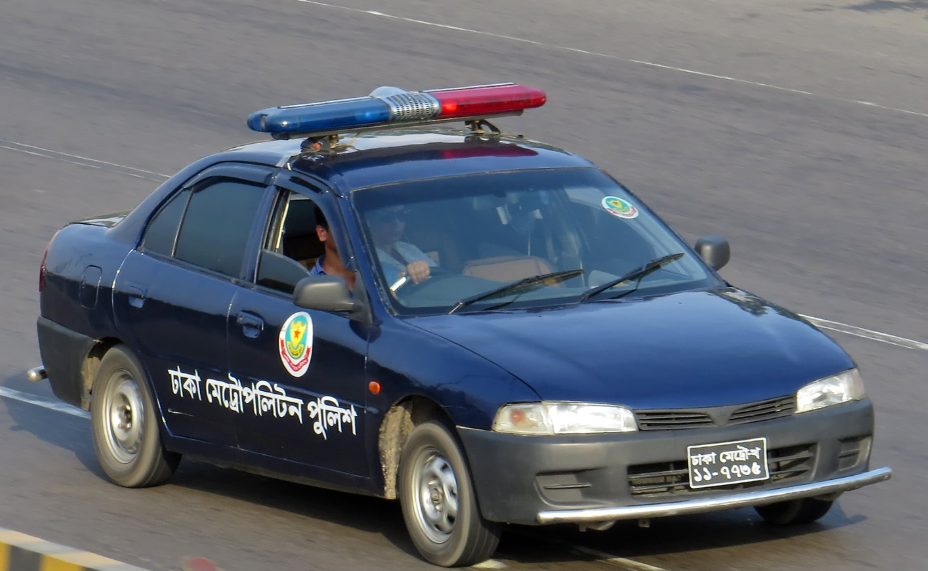Police cars: (37, 82, 893, 562)
